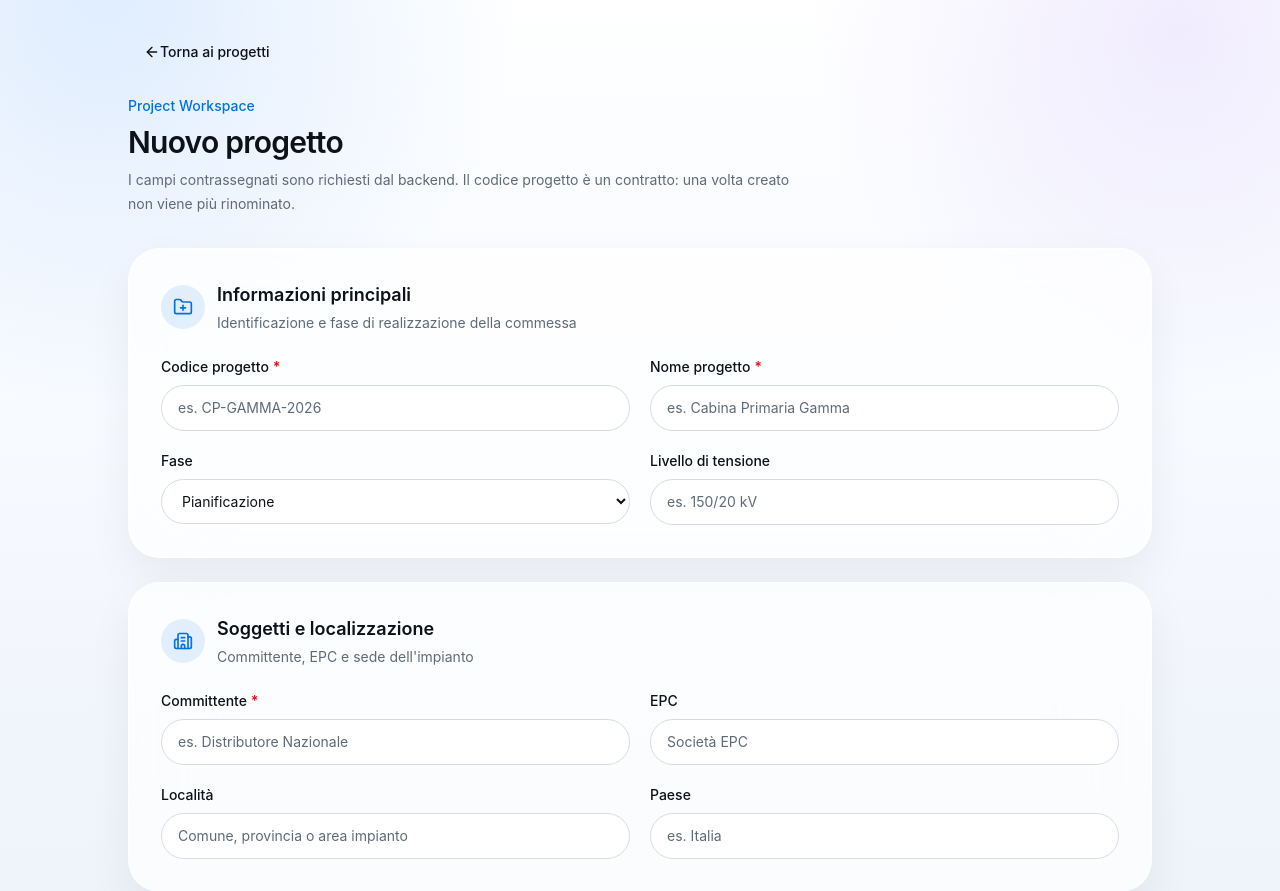
Test: project creation › reports a duplicate code with the backend's own words
This screenshot has width=1280, height=891.
Step 1. Type "CP-GAMMA-2026" into the field labelled "Codice progetto*" → (396, 408), box 161,385 -> 630,431
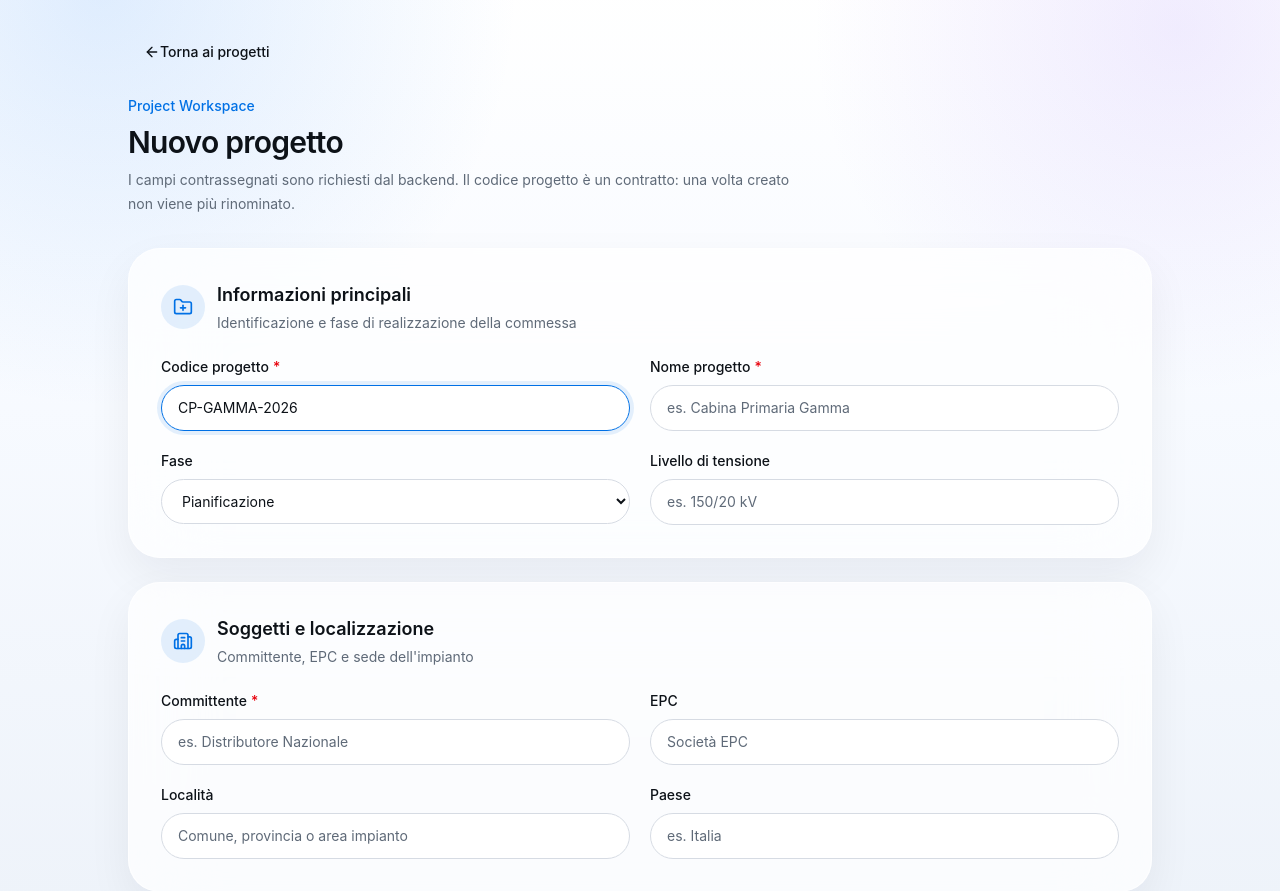
Step 2. Type "Cabina Gamma" into the field labelled "Nome progetto*" → (884, 408), box 650,385 -> 1119,431
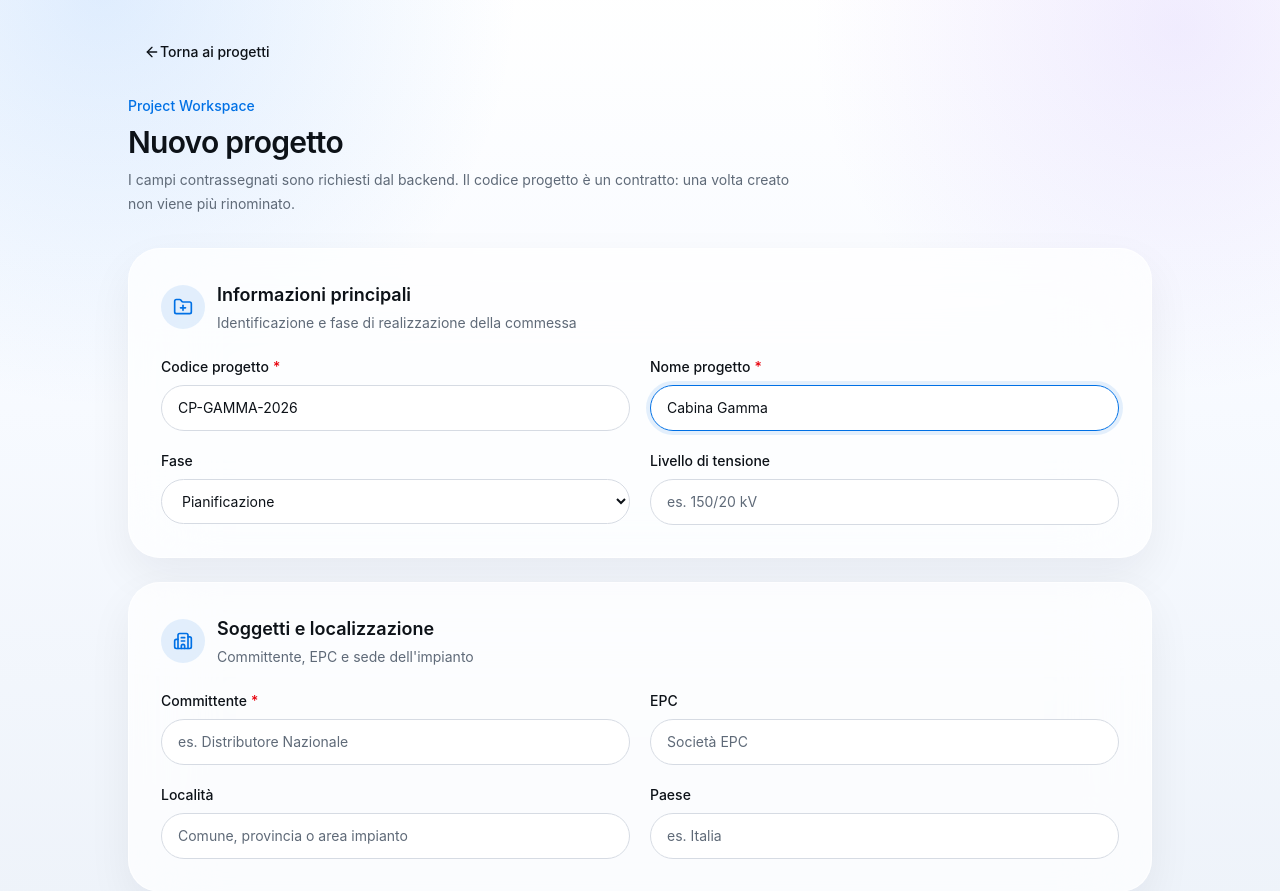
Step 3. Type "Distributore Nazionale" into the field labelled "Committente*" → (396, 742), box 161,719 -> 630,765
(page scrolled)
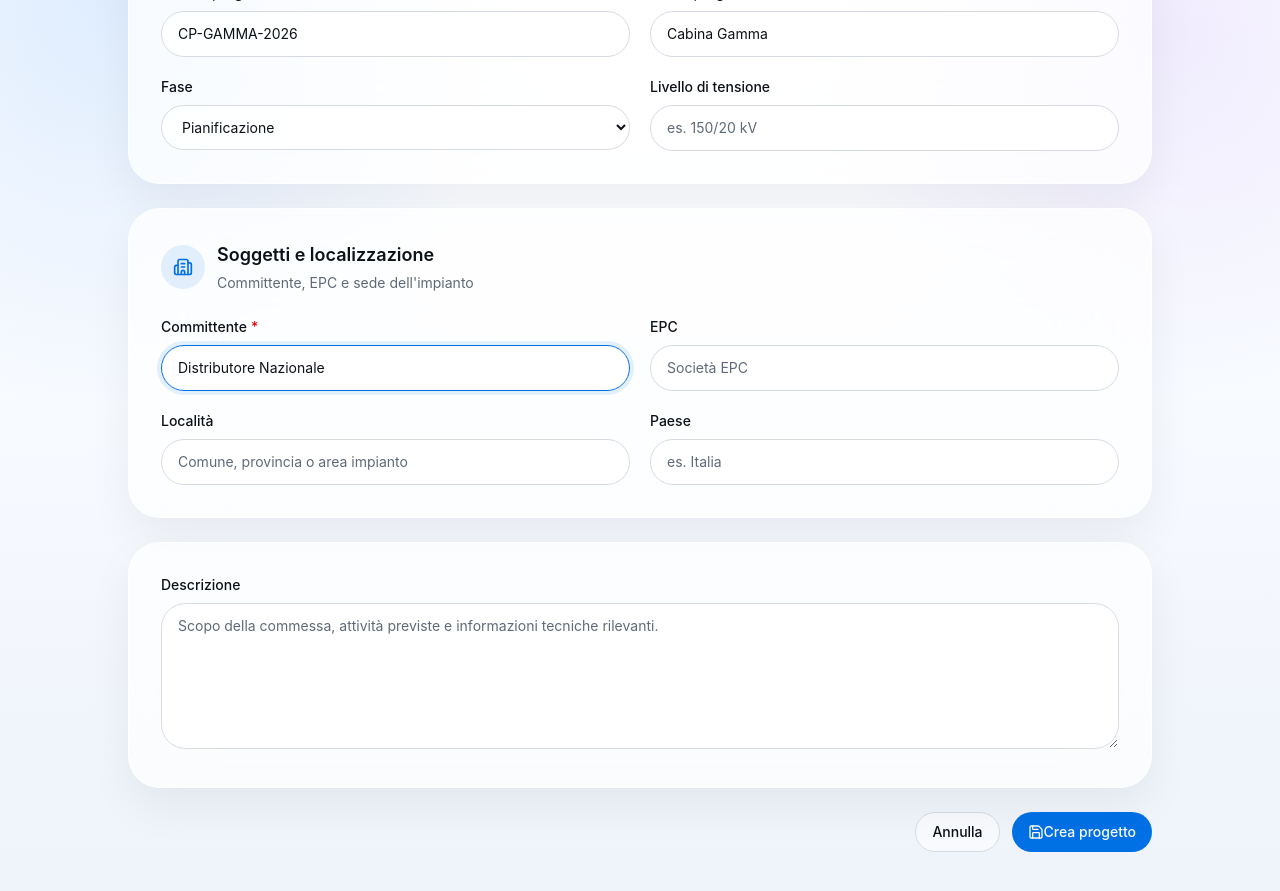
Step 4. Click the button "Crea progetto" → (1082, 832), box 1012,812 -> 1152,852
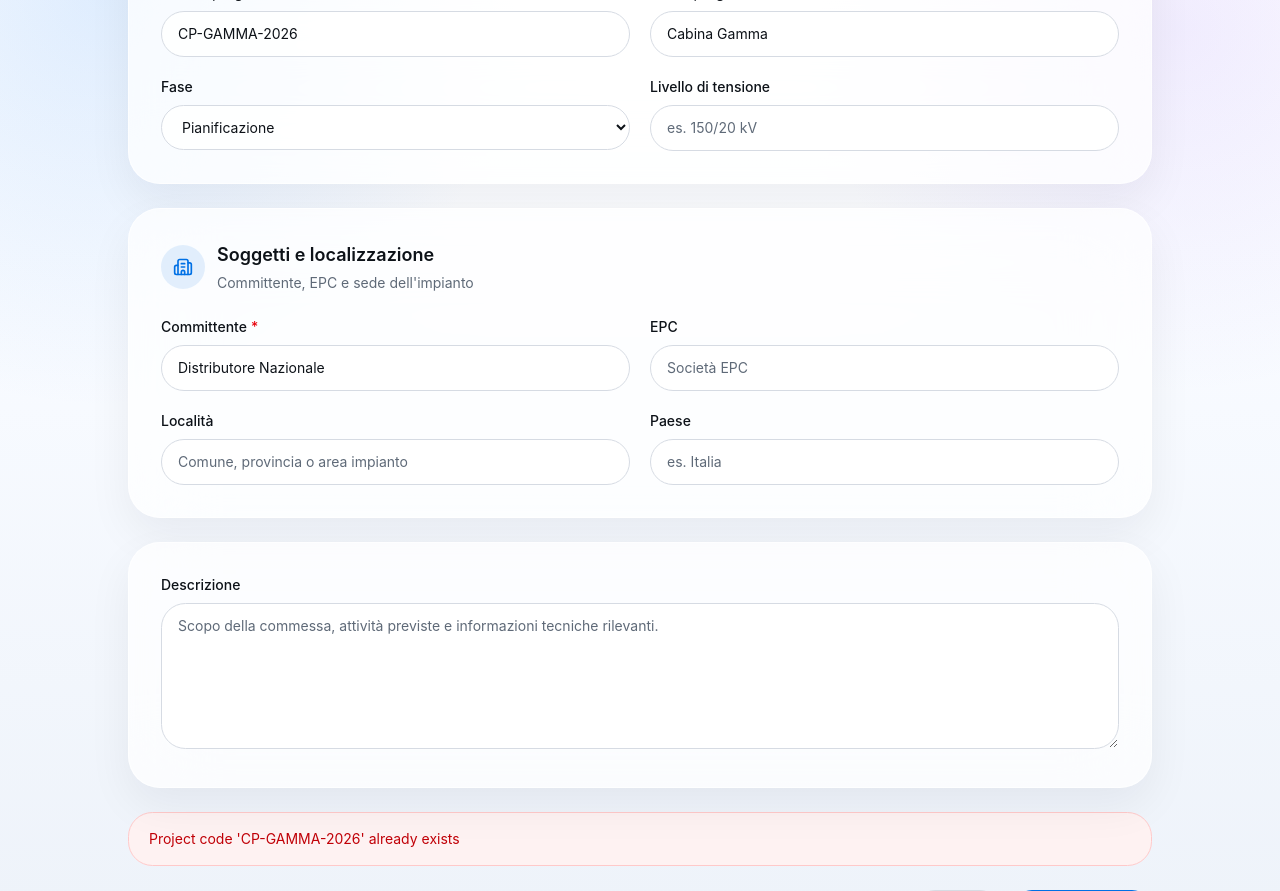
Now the text "Project code 'CP-GAMMA-2026' already exists" is shown, box 128,812 -> 1152,866
